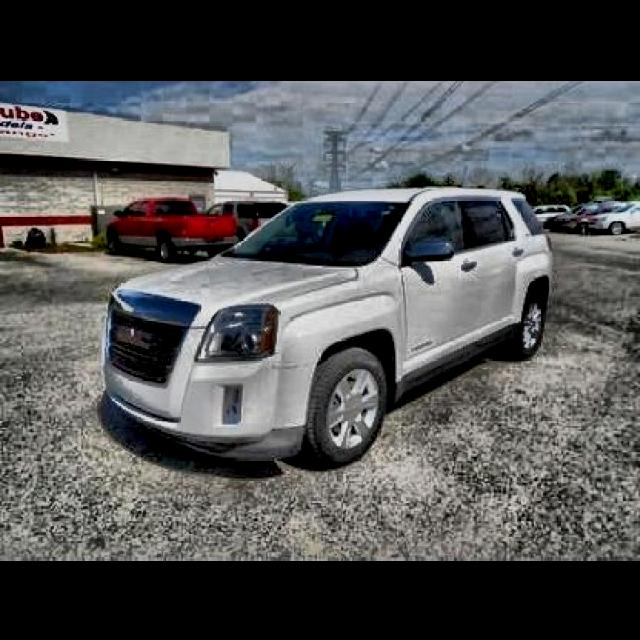red: (105, 194, 236, 260)
